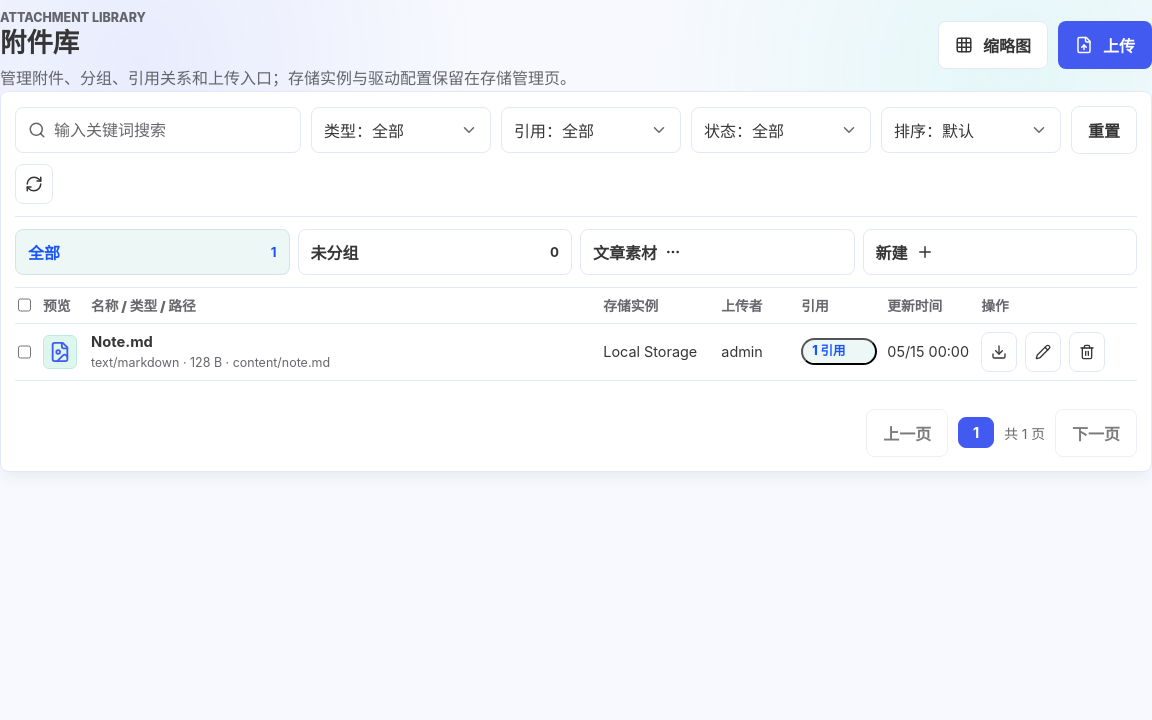
Test: StudioAttachmentsPage › bulk deletes selected attachments
Expected: the text "Note.md" is shown, [91,333,153,351]
Click the label named "选择附件 Note.md": point(24, 352) [18,344,31,360]
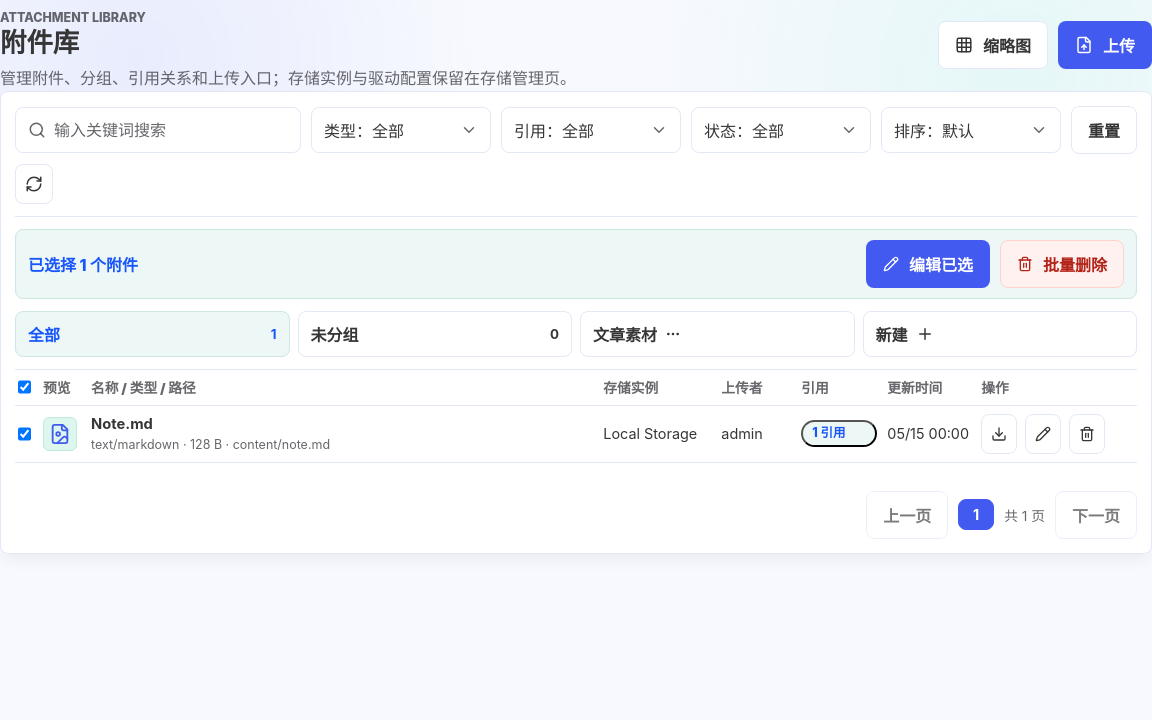
Click the button "批量删除": point(1062, 264) [1000,240,1124,288]
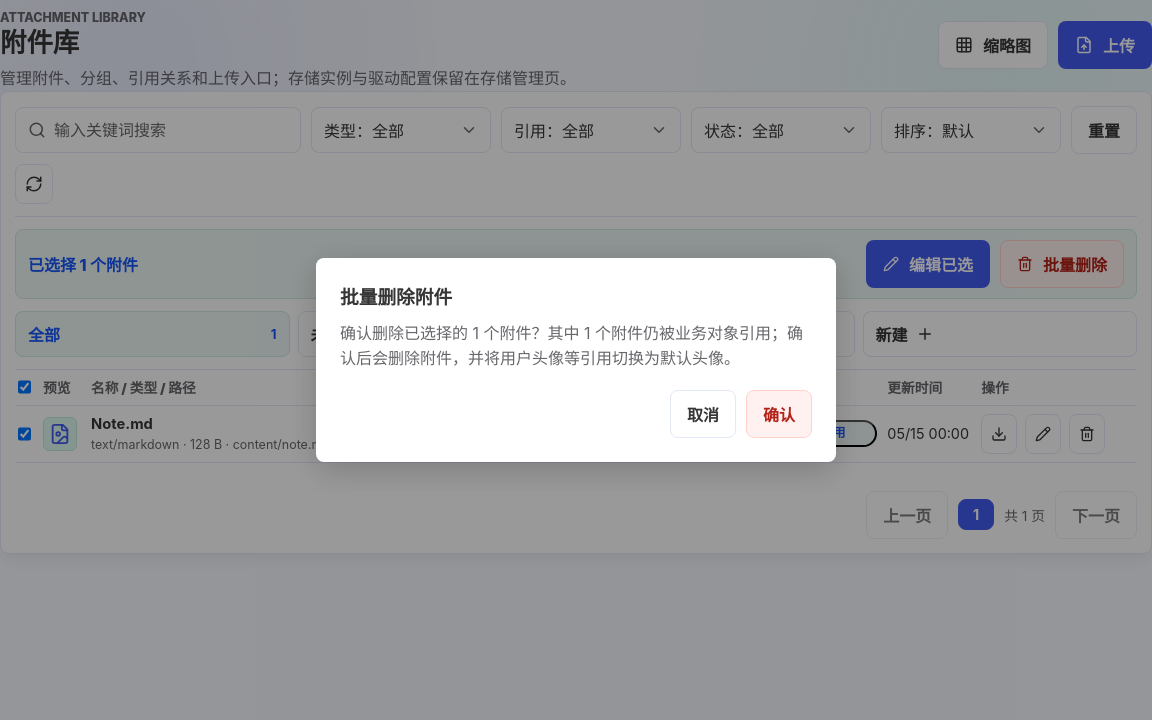
Now the text "确认删除已选择的 1 个附件？其中 1 个附件仍被业务对象引用；确认后会删除附件，并将用户头像等引用切换为默认头像。" is shown, box [340,321,812,370]
Click the button "确认": point(779, 414) [746,390,812,438]
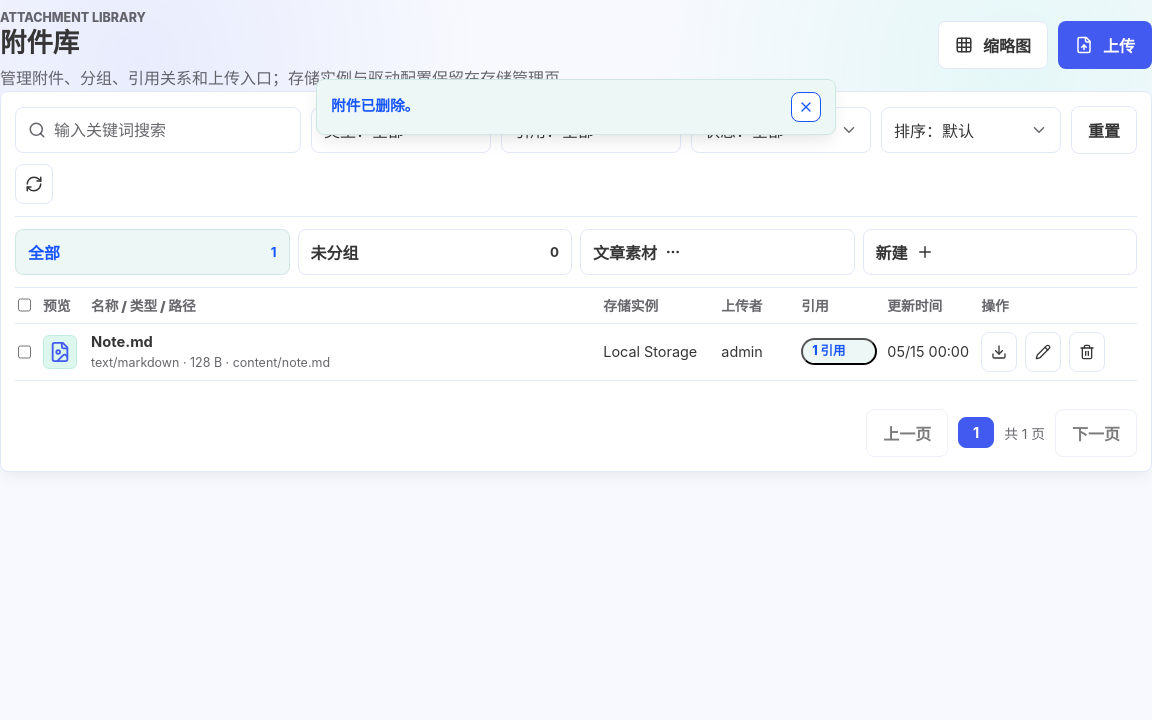
Now the text "附件已删除。" is shown, box [331,96,419,118]
Now the button "批量删除" is gone
